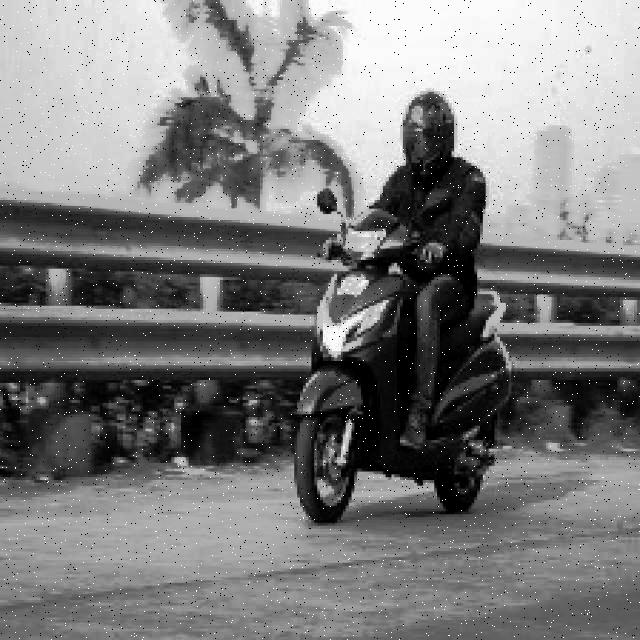Bike: (297, 186, 511, 534)
